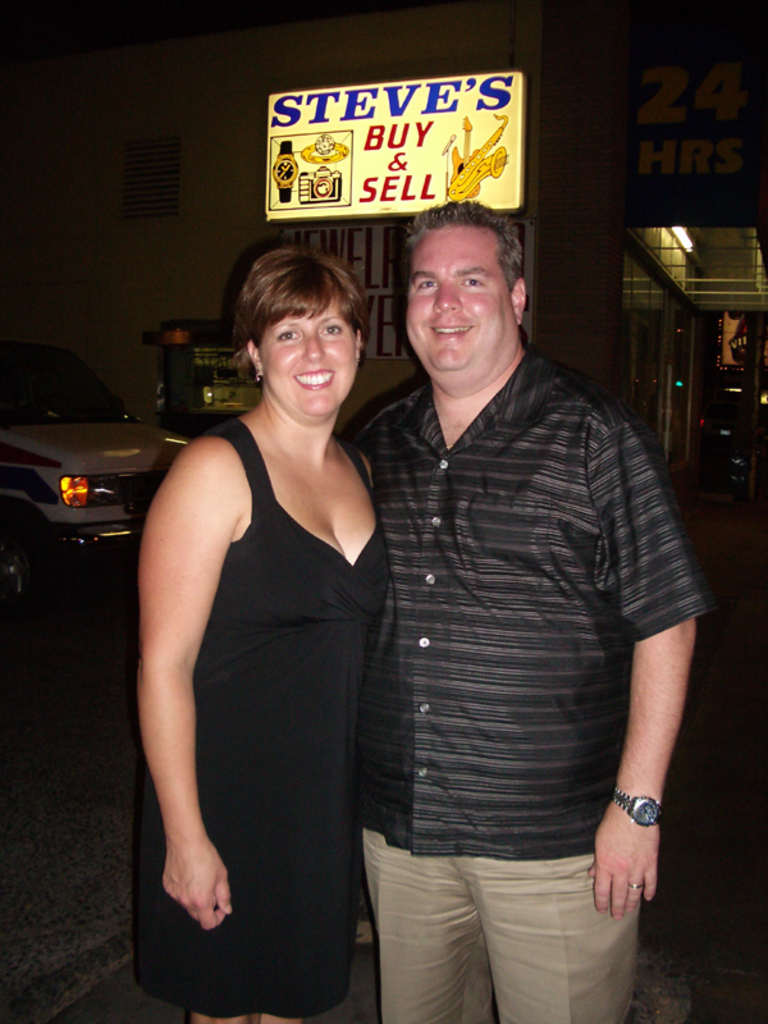Car: (0, 339, 190, 552)
